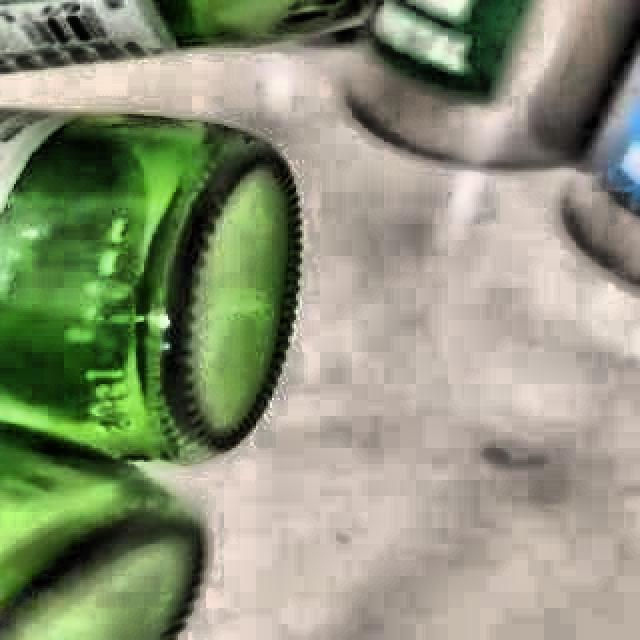glass: (0, 109, 301, 640)
